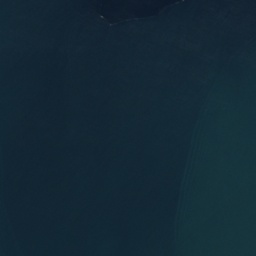Marine Debris: (100, 15, 104, 19)
